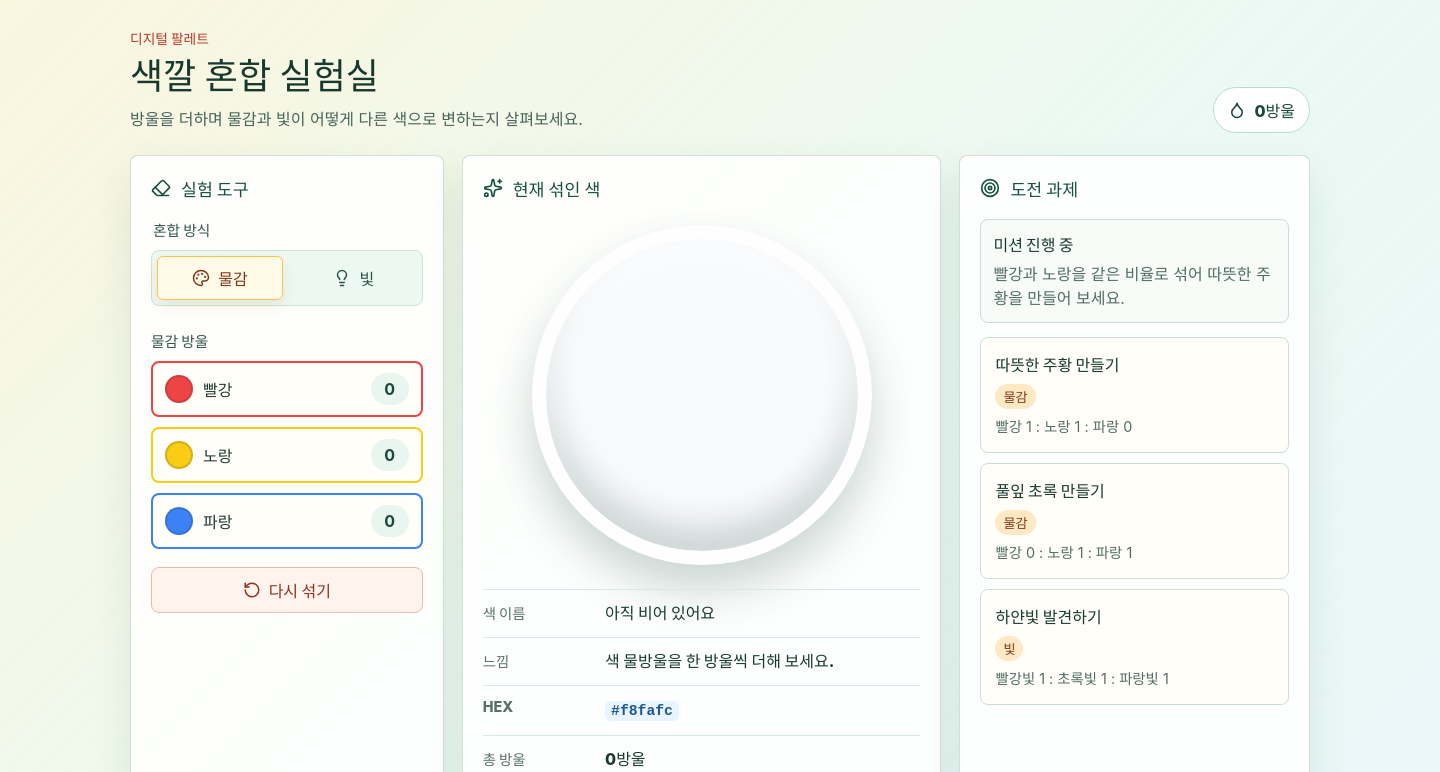
App › switches to light mode and shows white light when all light colors are active
The image size is (1440, 772).
Click the button "빛".
click(354, 278)  # box x1=291 y1=256 x2=417 y2=300
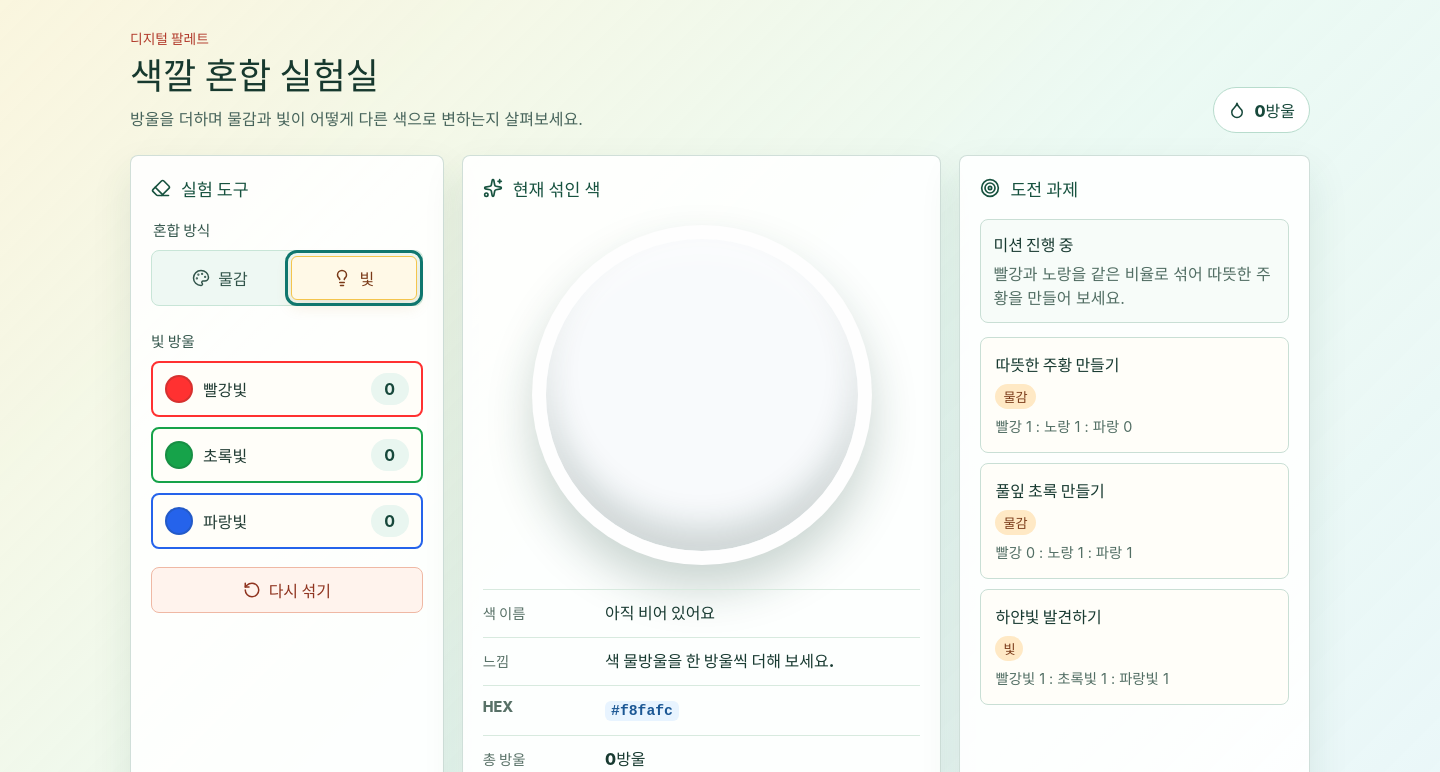
Click the button with aria-label "빨강빛 한 방울 추가".
click(225, 390)  # box x1=151 y1=361 x2=423 y2=417
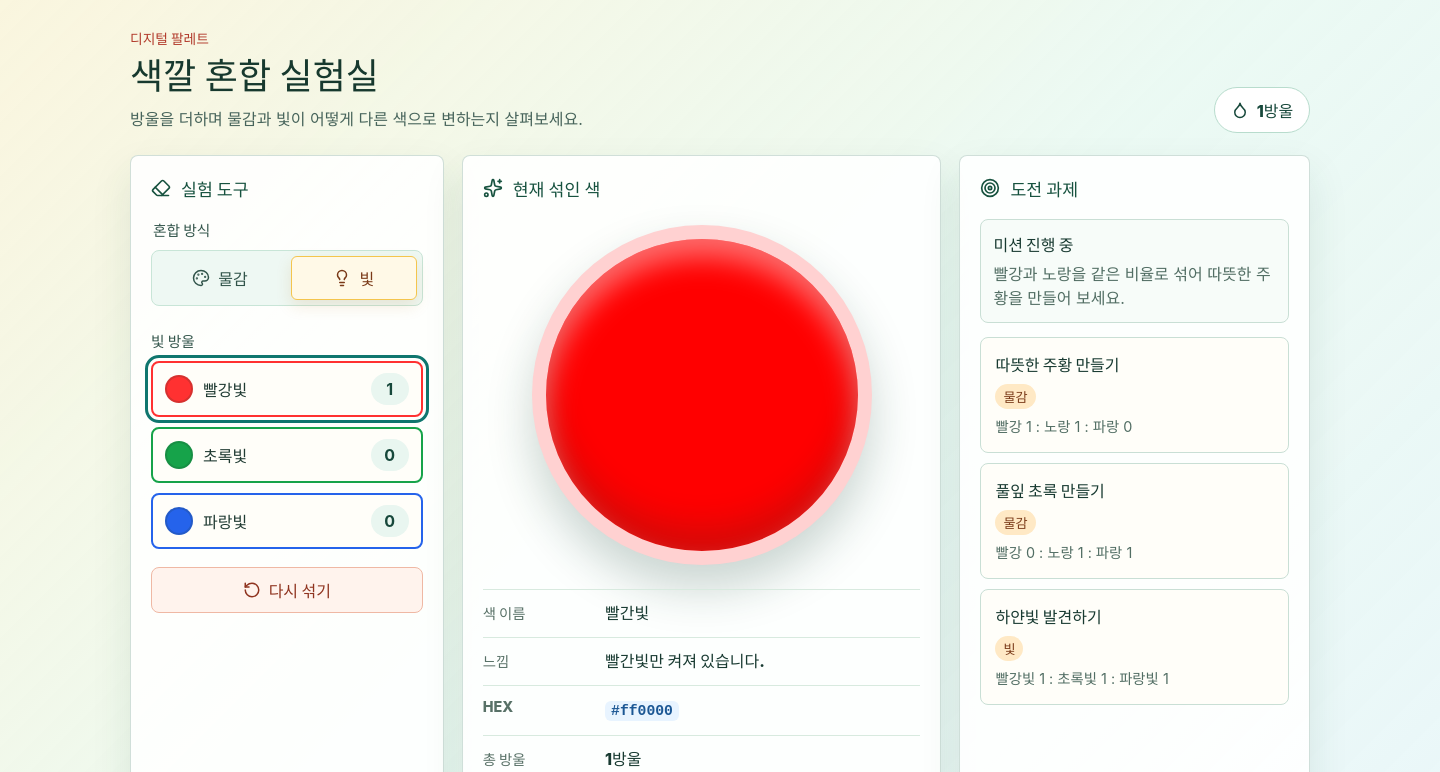
Click the button with aria-label "초록빛 한 방울 추가".
click(225, 456)  # box x1=151 y1=427 x2=423 y2=483
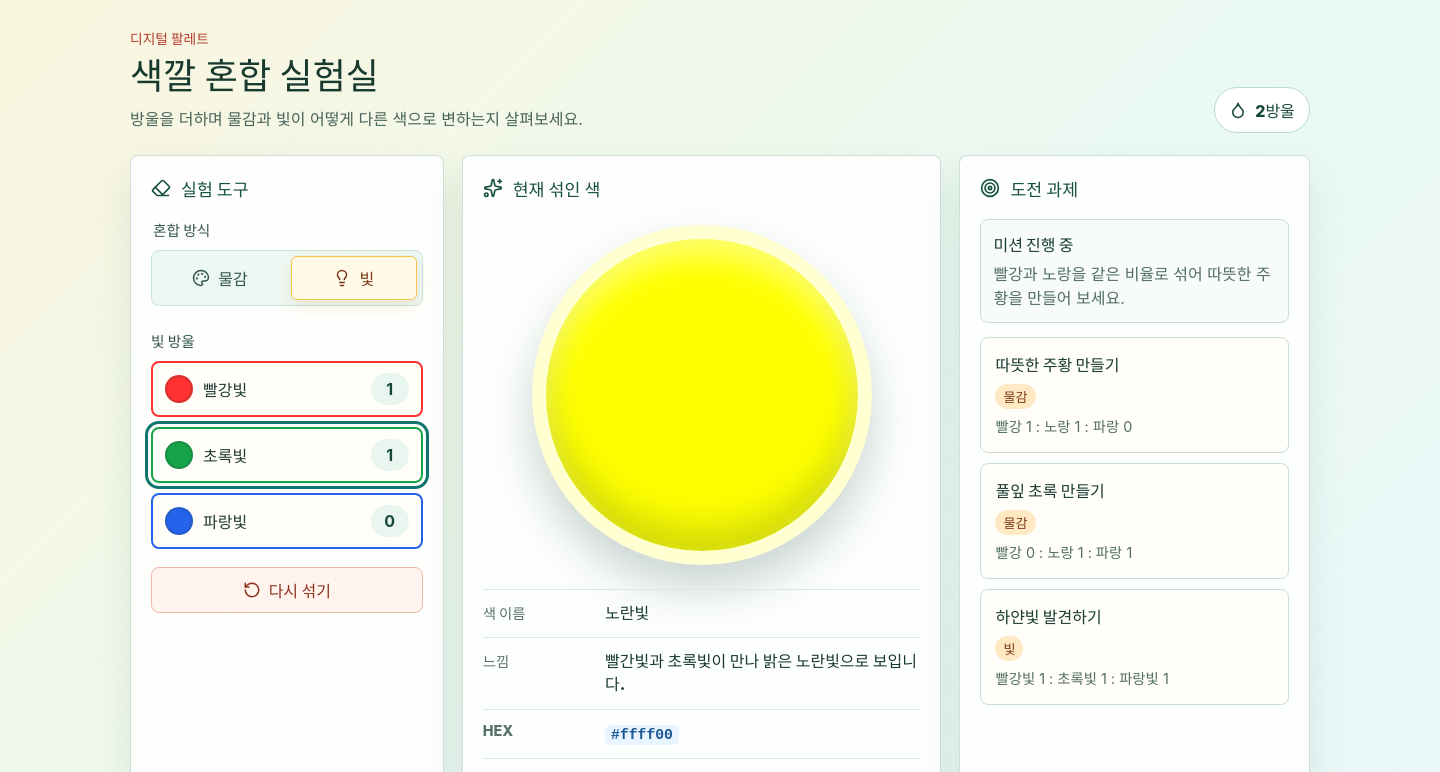
Click the button with aria-label "파랑빛 한 방울 추가".
click(225, 522)  # box x1=151 y1=493 x2=423 y2=549
(page scrolled)
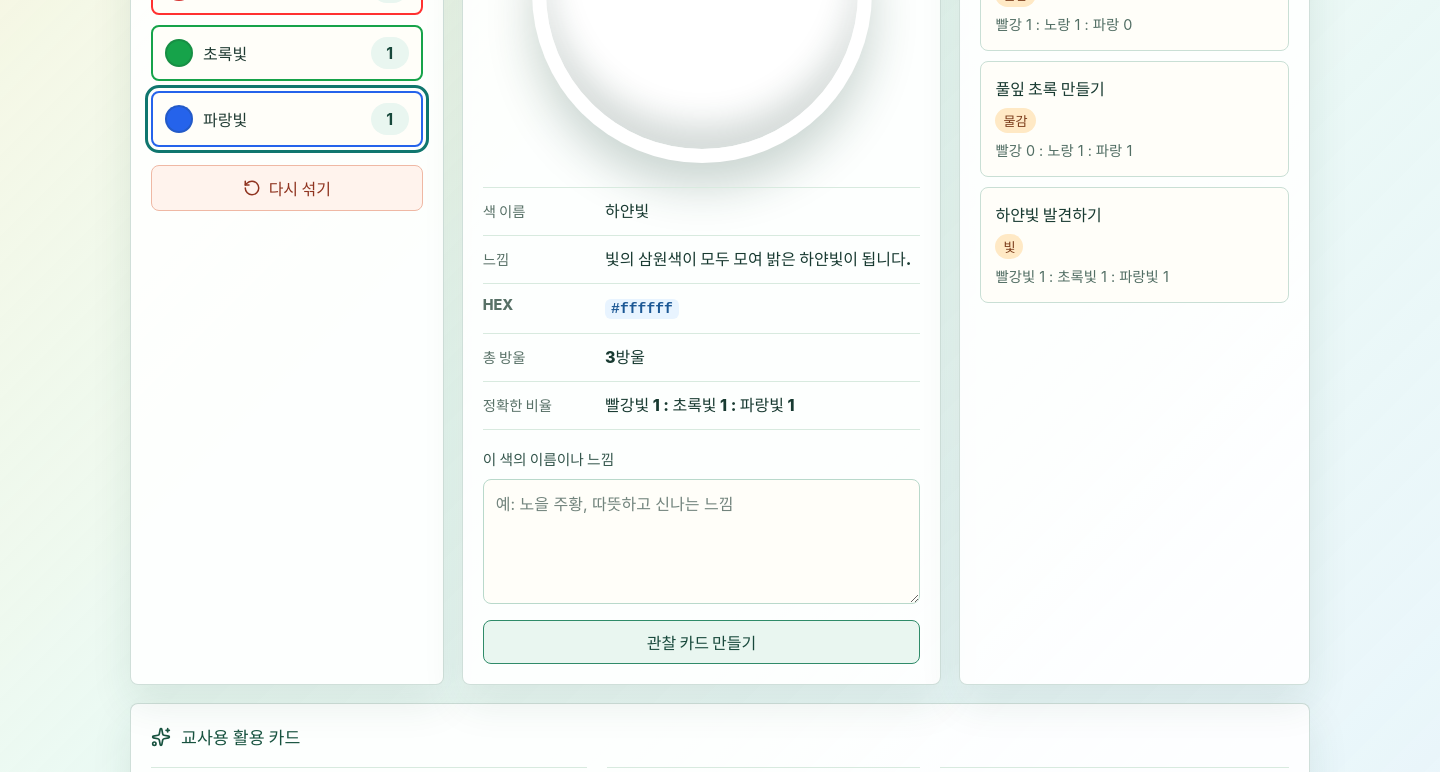
expect the text "하얀빛" is shown: met, box x1=605 y1=201 x2=649 y2=221
expect the text "빨강빛 1 : 초록빛 1 : 파랑빛 1" next to "정확한 비율" is shown: met, box x1=605 y1=395 x2=794 y2=415
